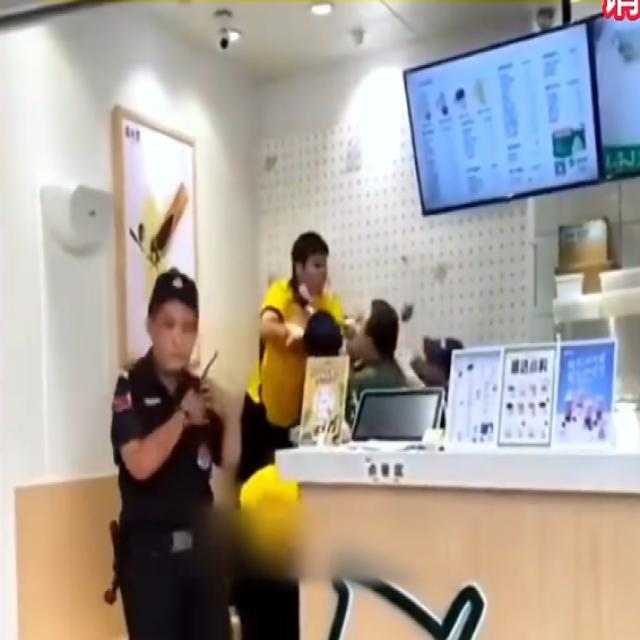fight: (254, 228, 405, 393)
nofight: (114, 262, 232, 594)
